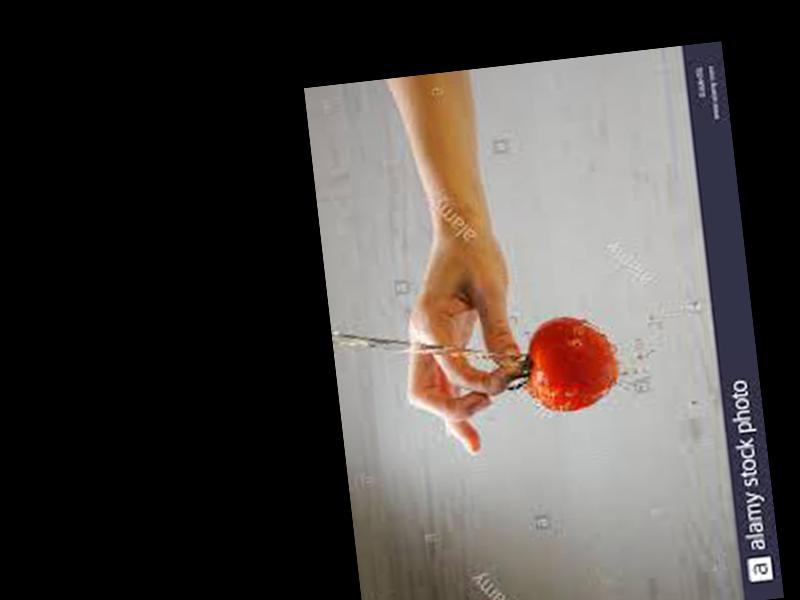Tomato: (521, 309, 623, 412)
